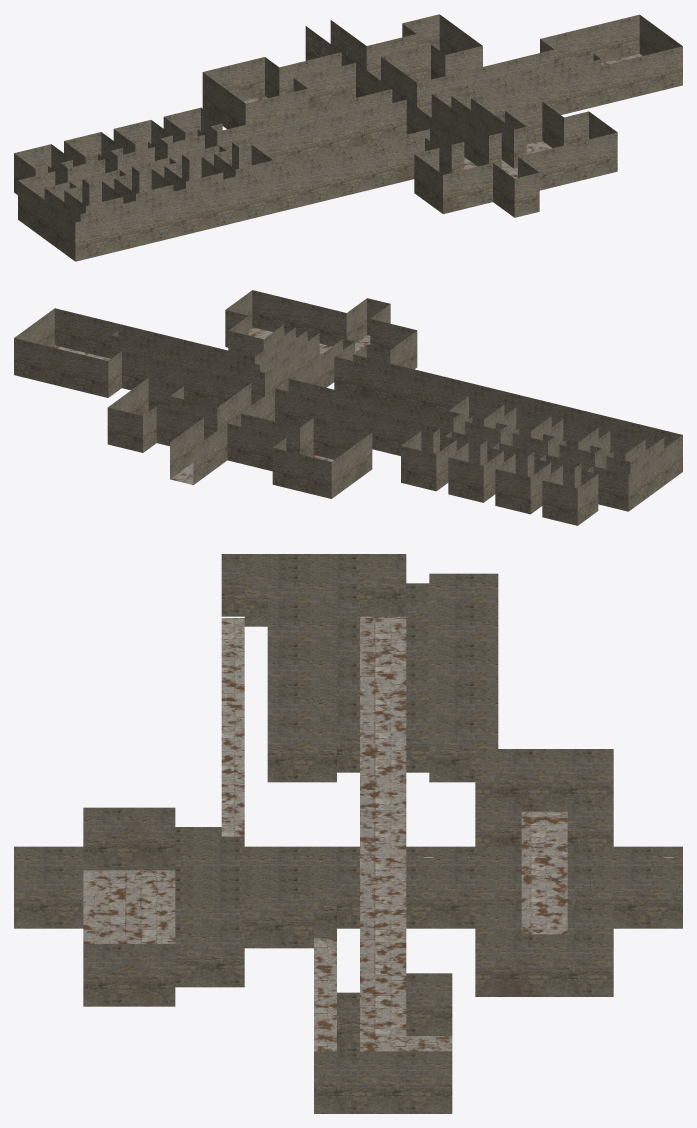
The model's file is level1.obj.
3 renders of one model, top to bottom at view 1: azimuth 30°, elevation 25°; view 2: azimuth 150°, elevation 25°; view 3: azimuth 270°, elevation 25°, orthographic. The views are drawn at different scales.
Parts seen in each view (by area): view 1: Plane.001, Plane.002; view 2: Plane.001, Plane.002; view 3: Plane.001, Plane.002.
Part boxes in pixels (bbox=[...]): Plane.001: bbox=[14, 14, 682, 261]; Plane.002: bbox=[243, 54, 642, 178]; Plane.001: bbox=[14, 290, 682, 525]; Plane.002: bbox=[52, 327, 370, 484]; Plane.001: bbox=[14, 554, 682, 1113]; Plane.002: bbox=[83, 616, 567, 1051].
Bounding box in the file's own units: 51 × 3 × 29.
